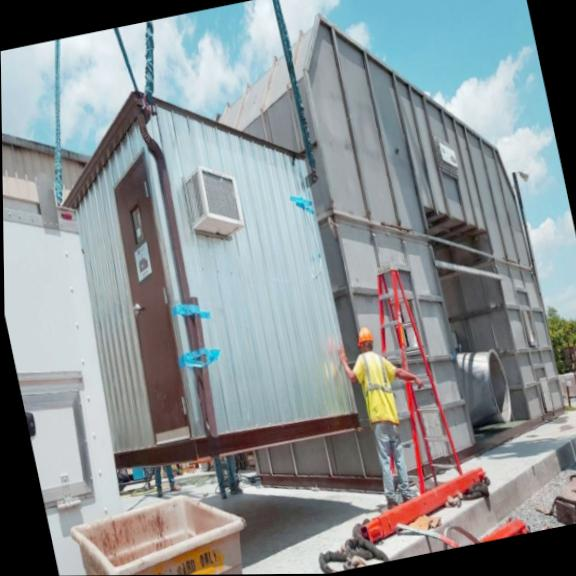safety_vest: (348, 346, 409, 440)
